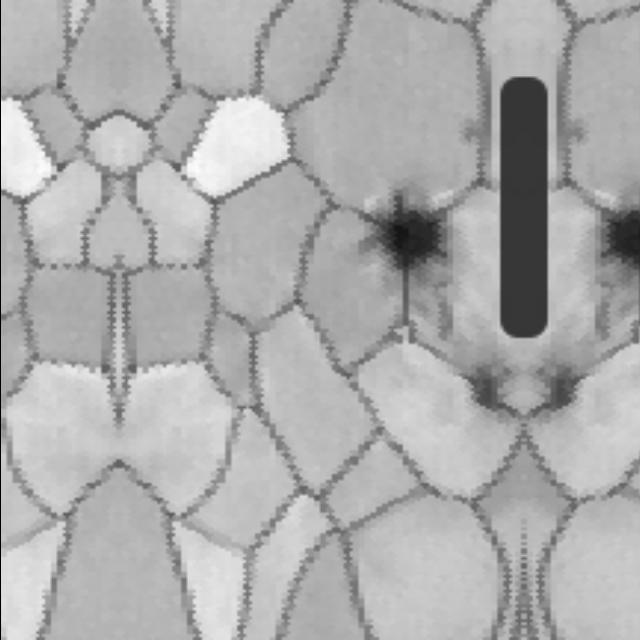good_void: (358, 202, 443, 275), (602, 202, 640, 275), (542, 358, 583, 407), (463, 358, 503, 407), (447, 102, 483, 152), (563, 102, 599, 152)
